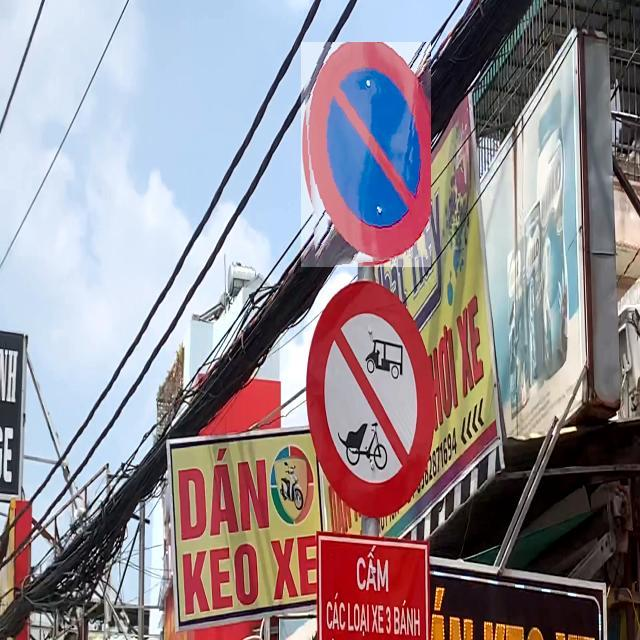P-131a: (301, 42, 431, 267)
